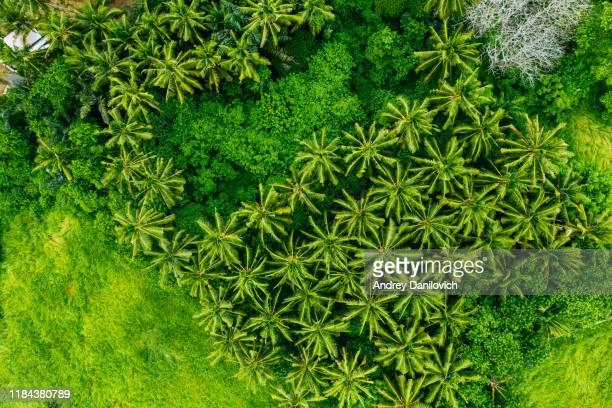coconut_tree: (231, 193, 295, 253), (191, 209, 247, 262), (369, 162, 425, 215), (420, 136, 476, 189), (442, 180, 498, 233), (143, 44, 199, 97), (191, 285, 247, 338), (377, 319, 433, 372), (320, 354, 376, 407), (287, 303, 343, 356), (376, 93, 432, 146), (291, 125, 347, 178), (112, 195, 168, 248), (305, 216, 355, 272), (101, 103, 151, 159), (509, 121, 559, 177), (213, 30, 263, 86), (425, 23, 475, 79), (499, 182, 549, 238), (438, 74, 488, 130), (140, 150, 190, 206)
